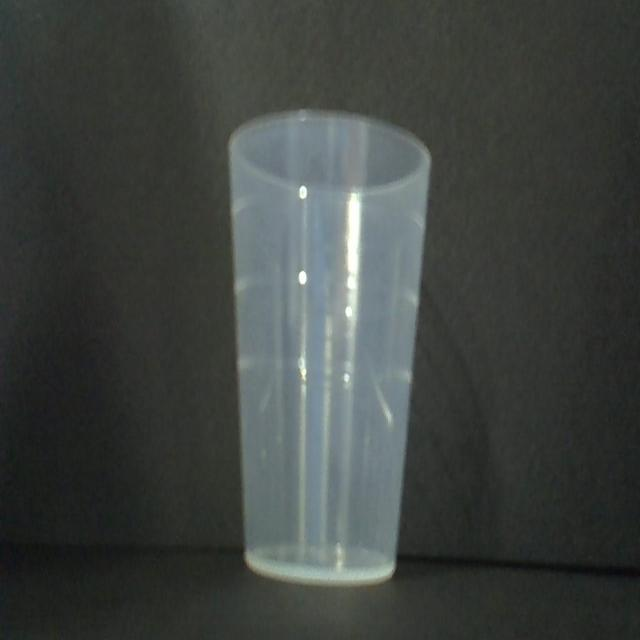cup: (227, 107, 434, 586)
